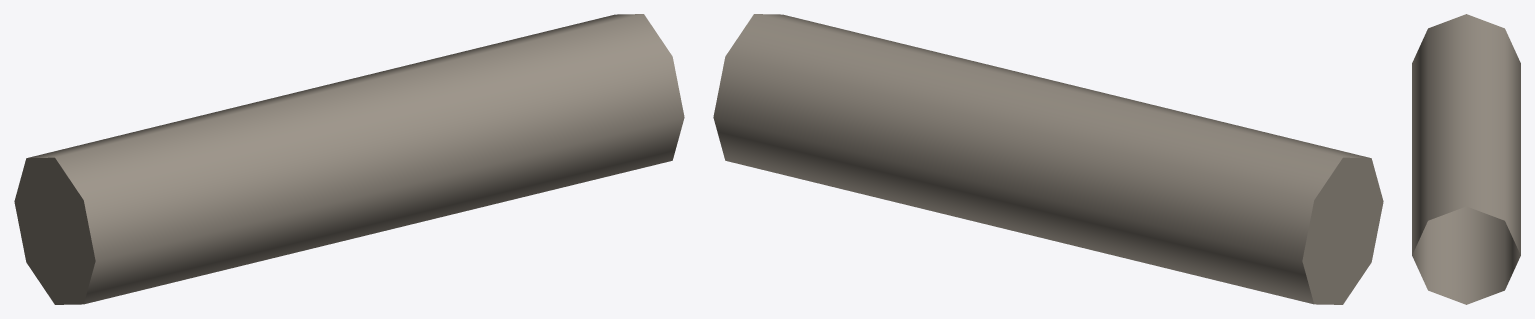
Rendered from ChineseShop_Dif9_Sc1.fbx.
The picture shows the model from 3 angles, left to right: view 1: azimuth 30°, elevation 25°; view 2: azimuth 150°, elevation 25°; view 3: azimuth 270°, elevation 25°; orthographic projection. The views are drawn at different scales.
Visible parts, largest first — view 1: ChineseShop_Dif9_Sc1; view 2: ChineseShop_Dif9_Sc1; view 3: ChineseShop_Dif9_Sc1.
Part boxes in pixels (x1,y1,x2,y2): ChineseShop_Dif9_Sc1: (14, 14, 684, 304); ChineseShop_Dif9_Sc1: (713, 14, 1383, 304); ChineseShop_Dif9_Sc1: (1412, 14, 1520, 304).
Size of the model in its own units: 0.6804 by 0.1626 by 0.1626.
